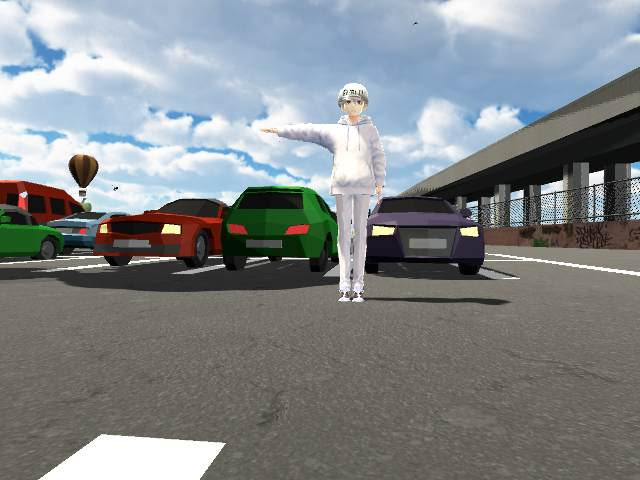singleP_left: (260, 80, 387, 305)
